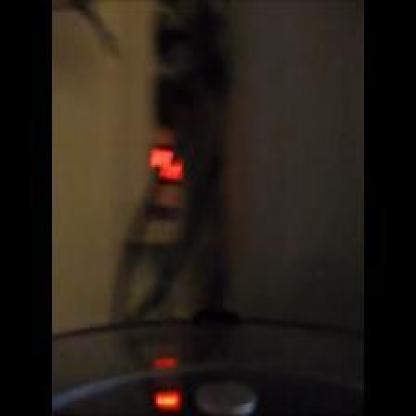other: (141, 135, 195, 199), (144, 336, 184, 412)
